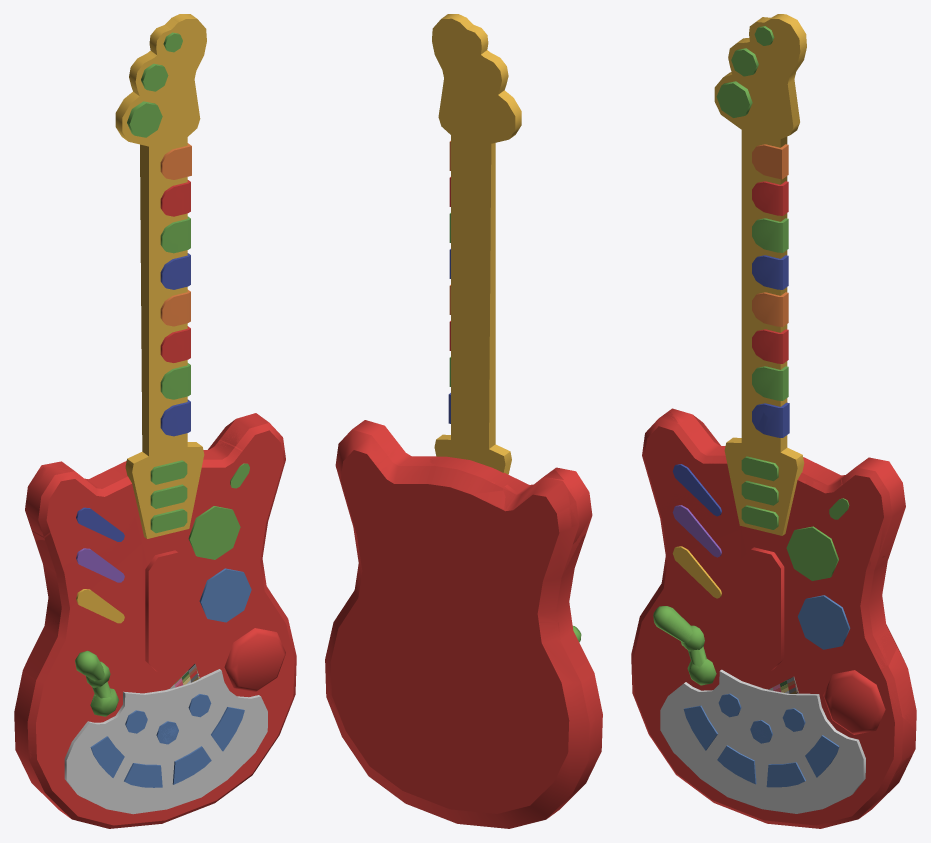
File: Guitar_01 (1).fbx
The picture shows the model from 3 angles, left to right: view 1: azimuth 30°, elevation 25°; view 2: azimuth 150°, elevation 25°; view 3: azimuth 330°, elevation 25°; orthographic projection. The views are drawn at different scales.
Parts seen in each view (by area): view 1: Guitar_01, Guitar_01_cell.006, Guitar_01_cell.042, Guitar_01_cell.031, Guitar_01_cell.006_cell.023, Guitar_01_cell.005, Guitar_01_cell.006_cell.022, Guitar_01_cell.014, Guitar_01_cell.006_cell.013, Guitar_01_cell.030, Guitar_01_cell.006_cell.006, Guitar_01_cell.006_cell.014 (+10 smaller); view 2: Guitar_01, Guitar_01_cell.006, Guitar_01_cell.014, Guitar_01_cell.031, Guitar_01_cell.006_cell.001, Guitar_01_cell.006_cell.013, Guitar_01_cell.006_cell.021, Guitar_01_cell.006_cell.006; view 3: Guitar_01, Guitar_01_cell.006, Guitar_01_cell.042, Guitar_01_cell.006_cell.023, Guitar_01_cell.031, Guitar_01_cell.005, Guitar_01_cell.006_cell.022, Guitar_01_cell.006_cell.013, Guitar_01_cell.030, Guitar_01_cell.006_cell.014, Guitar_01_cell.006_cell.009, Guitar_01_cell.006_cell.006 (+8 smaller).
Part boxes in pixels (left/top/right/bottom): Guitar_01: left=15, top=14, right=285, bottom=818; Guitar_01_cell.006: left=15, top=416, right=296, bottom=828; Guitar_01_cell.042: left=64, top=670, right=267, bottom=814; Guitar_01_cell.031: left=115, top=39, right=204, bottom=538; Guitar_01_cell.006_cell.023: left=144, top=511, right=273, bottom=655; Guitar_01_cell.005: left=211, top=628, right=285, bottom=751; Guitar_01_cell.006_cell.022: left=178, top=440, right=257, bottom=555; Guitar_01_cell.014: left=125, top=144, right=201, bottom=538; Guitar_01_cell.006_cell.013: left=32, top=516, right=147, bottom=622; Guitar_01_cell.030: left=188, top=506, right=240, bottom=559; Guitar_01_cell.006_cell.006: left=217, top=413, right=277, bottom=461; Guitar_01_cell.006_cell.014: left=252, top=436, right=285, bottom=510; Guitar_01: left=325, top=14, right=602, bottom=828; Guitar_01_cell.006: left=335, top=423, right=602, bottom=802; Guitar_01_cell.014: left=440, top=121, right=509, bottom=458; Guitar_01_cell.031: left=432, top=18, right=521, bottom=474; Guitar_01_cell.006_cell.001: left=471, top=610, right=602, bottom=777; Guitar_01_cell.006_cell.013: left=538, top=534, right=585, bottom=621; Guitar_01_cell.006_cell.021: left=567, top=483, right=592, bottom=543; Guitar_01_cell.006_cell.006: left=352, top=420, right=389, bottom=462; Guitar_01: left=642, top=14, right=916, bottom=818; Guitar_01_cell.006: left=631, top=408, right=916, bottom=828; Guitar_01_cell.042: left=660, top=670, right=864, bottom=813; Guitar_01_cell.006_cell.023: left=782, top=550, right=891, bottom=669; Guitar_01_cell.031: left=724, top=34, right=805, bottom=535; Guitar_01_cell.005: left=805, top=670, right=884, bottom=777; Guitar_01_cell.006_cell.022: left=777, top=478, right=857, bottom=561; Guitar_01_cell.006_cell.013: left=648, top=474, right=746, bottom=571; Guitar_01_cell.030: left=786, top=526, right=838, bottom=580; Guitar_01_cell.006_cell.014: left=852, top=477, right=901, bottom=557; Guitar_01_cell.006_cell.009: left=885, top=647, right=916, bottom=730; Guitar_01_cell.006_cell.006: left=841, top=460, right=889, bottom=502.
Size of the model in its own units: 0.4294 by 1.23 by 0.1097.
